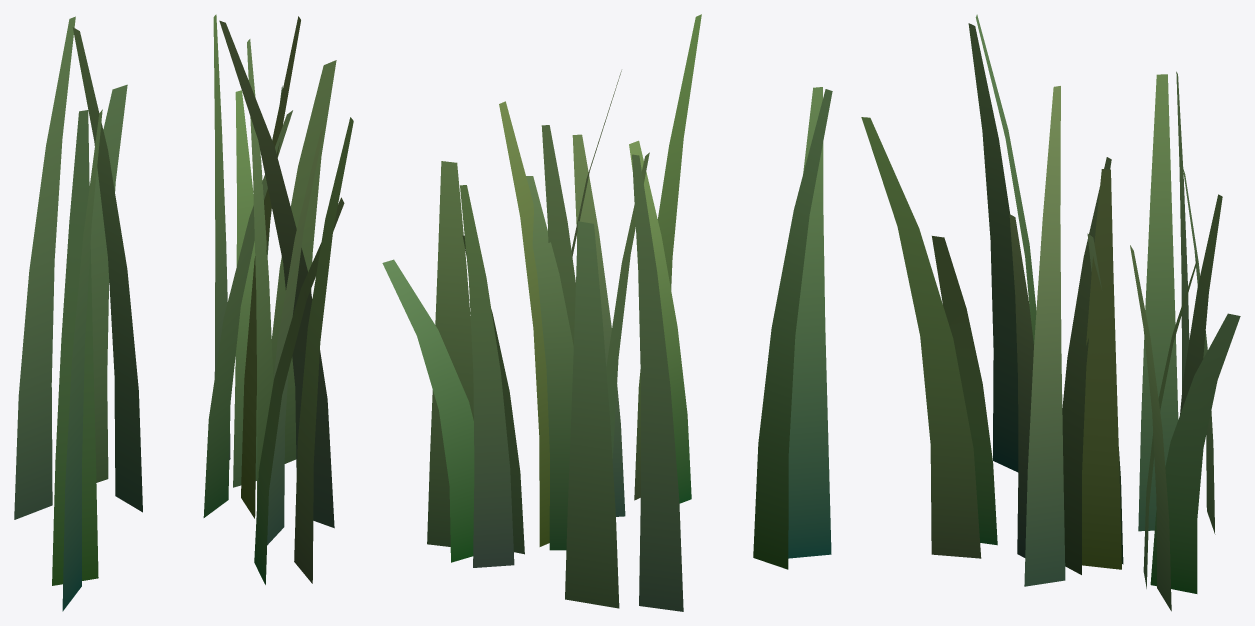
The model's file is env_grass_lawn_dense_01.glb.
The picture shows the model from 3 angles, left to right: view 1: azimuth 30°, elevation 25°; view 2: azimuth 150°, elevation 25°; view 3: azimuth 270°, elevation 25°; orthographic projection. The views are drawn at different scales.
Parts seen in each view (by area): view 1: grass_lawn_dense; view 2: grass_lawn_dense; view 3: grass_lawn_dense.
Part boxes in pixels (x1=…): grass_lawn_dense: x1=14, y1=14, x2=353, y2=611; grass_lawn_dense: x1=382, y1=14, x2=832, y2=611; grass_lawn_dense: x1=861, y1=14, x2=1240, y2=611.
Size of the model in its own units: 0.1136 by 0.1562 by 0.1168.
